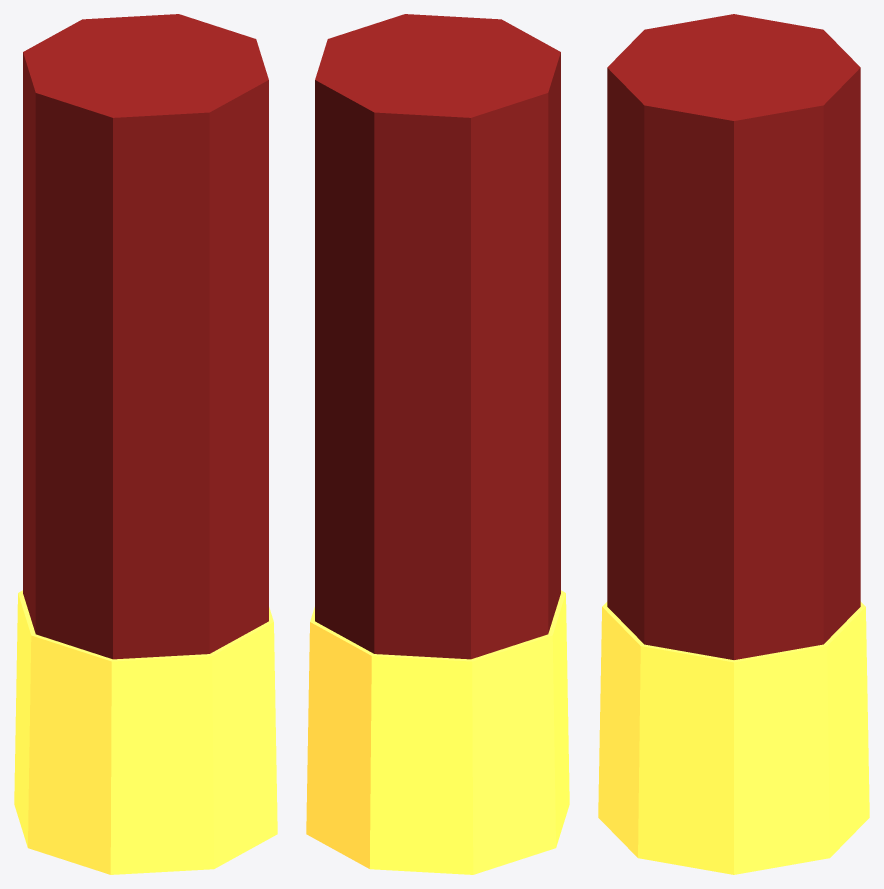
Rendered from vfx_shell_shotgun.glb.
The picture shows the model from 3 angles, left to right: view 1: azimuth 30°, elevation 25°; view 2: azimuth 150°, elevation 25°; view 3: azimuth 270°, elevation 25°; orthographic projection.
Visible parts, largest first — view 1: VFX_Shell_Shotgun; view 2: VFX_Shell_Shotgun; view 3: VFX_Shell_Shotgun.
Boxes of the visible parts, x1,y1,x2,y2 form: VFX_Shell_Shotgun: [14, 14, 277, 874]; VFX_Shell_Shotgun: [306, 14, 569, 874]; VFX_Shell_Shotgun: [598, 14, 869, 874].
Size of the model in its own units: 0.021 by 0.064 by 0.021.
